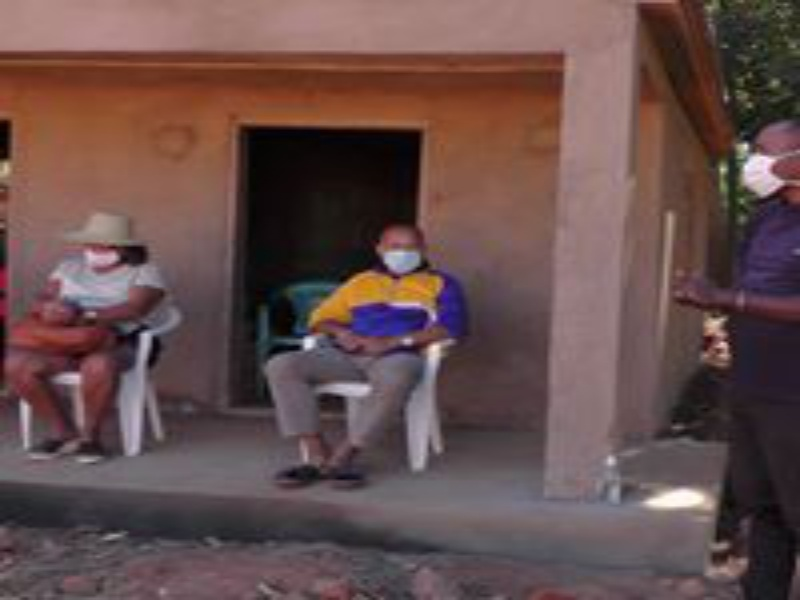ManaoArotava: (74, 213, 128, 279), (370, 223, 427, 283)
